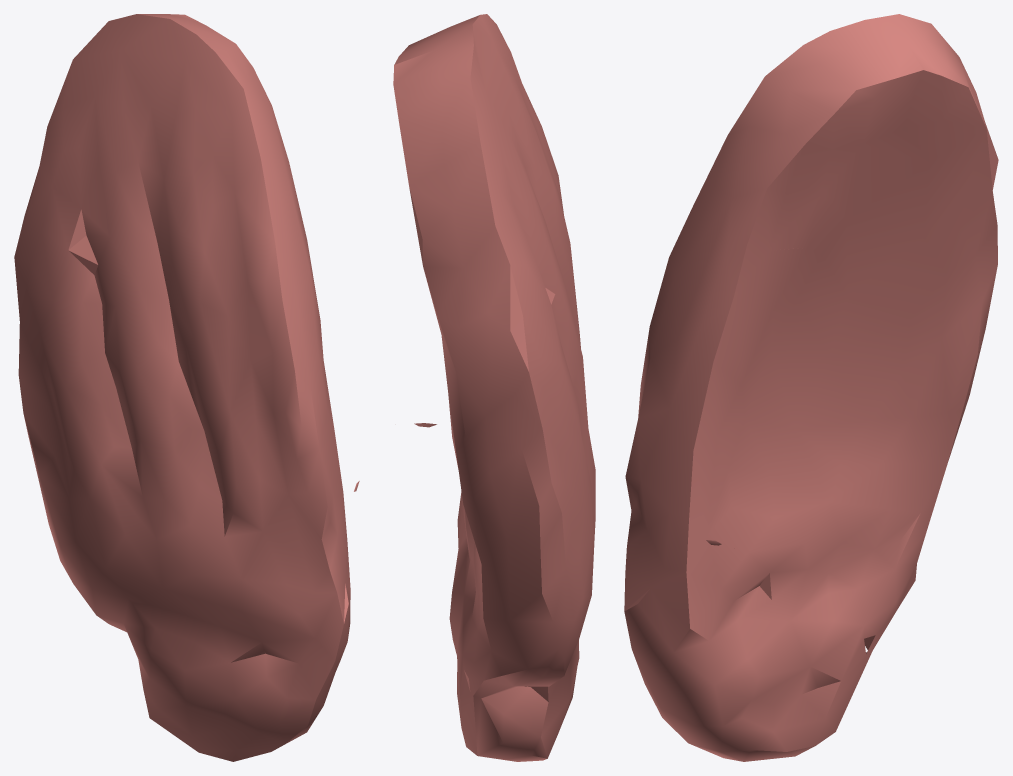
File: fma48975_mm1289m.glb
The picture shows the model from 3 angles, left to right: view 1: azimuth 30°, elevation 25°; view 2: azimuth 150°, elevation 25°; view 3: azimuth 270°, elevation 25°; orthographic projection. The views are drawn at different scales.
Parts seen in each view (by area): view 1: FMA48975_MM1289M; view 2: FMA48975_MM1289M; view 3: FMA48975_MM1289M.
Boxes of the visible parts, x1,y1,x2,y2 form: FMA48975_MM1289M: (14,14,359,761); FMA48975_MM1289M: (393,14,595,761); FMA48975_MM1289M: (624,14,998,761).
Bounding box in the file's own units: 0.00356 × 0.00964 × 0.00447.
